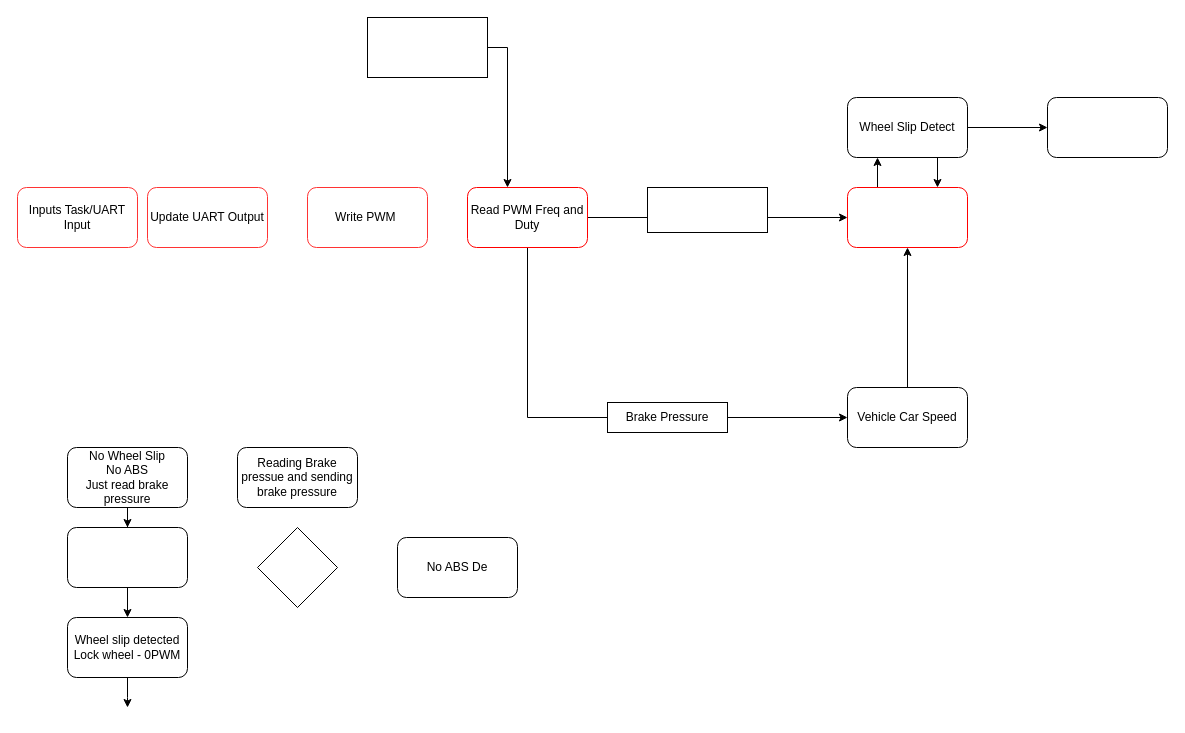
This 1185x733 diagram has some shape labels left out. The box of each missing label's shape, as (x1, y1, x2, y2) in pixels:
ABS Board: (366, 16, 488, 78)
ABS detected?: (256, 526, 338, 608)
Apply high brake + Road Condition: (66, 526, 188, 588)
If ABS detected unlock wheel - Boolean: (646, 186, 768, 232)
Off for 2/T then back on for 2/T: (1046, 96, 1168, 158)
Update Wheel Info: (846, 186, 968, 248)
